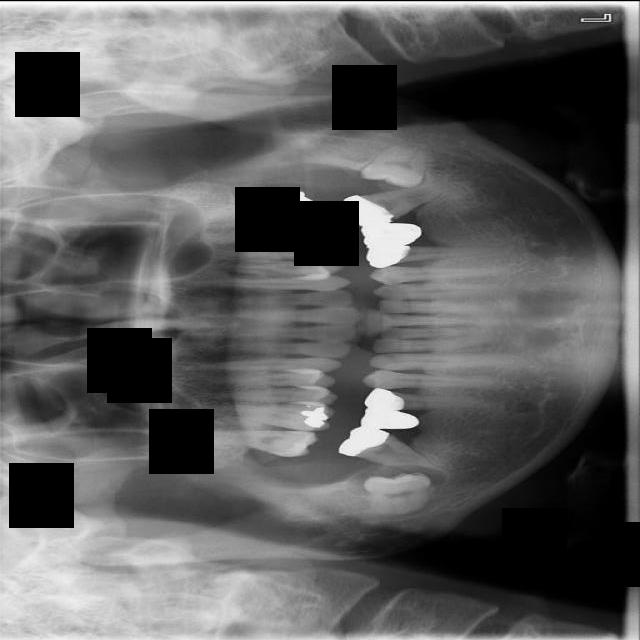52: (332, 414, 393, 463), (337, 189, 396, 235), (280, 395, 336, 436), (263, 184, 318, 219), (361, 220, 422, 249), (284, 210, 332, 245), (362, 406, 419, 430), (365, 386, 407, 411), (366, 244, 409, 267)
73: (202, 217, 291, 243), (610, 6, 620, 14)
BioHorizons Implant: (196, 183, 318, 228)
Biomet 3i Implant: (359, 131, 434, 192)
Blue Sky Bio Implant: (343, 179, 455, 228)
Caries: (193, 428, 317, 455)
Implant: (338, 418, 452, 484)
Keystone Dental Implant: (363, 469, 437, 519)
